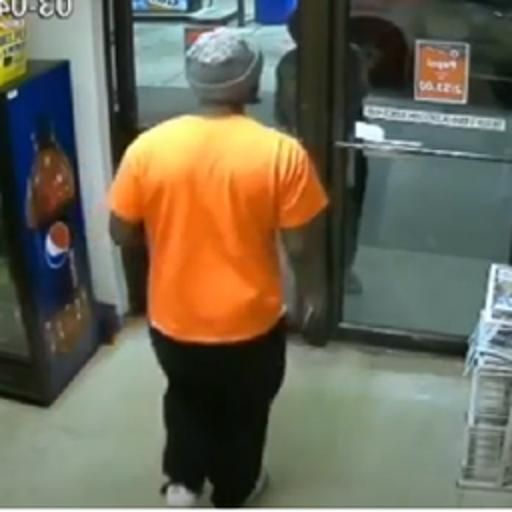Humans: (83, 1, 336, 512)
